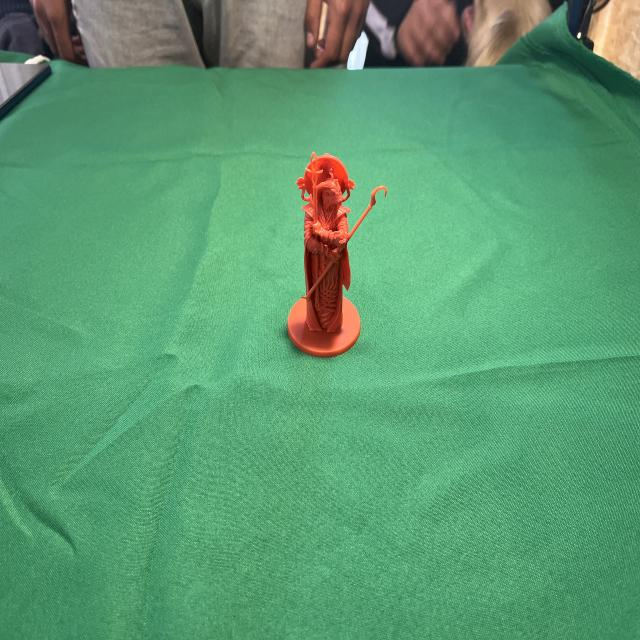amon: (285, 148, 388, 362)
